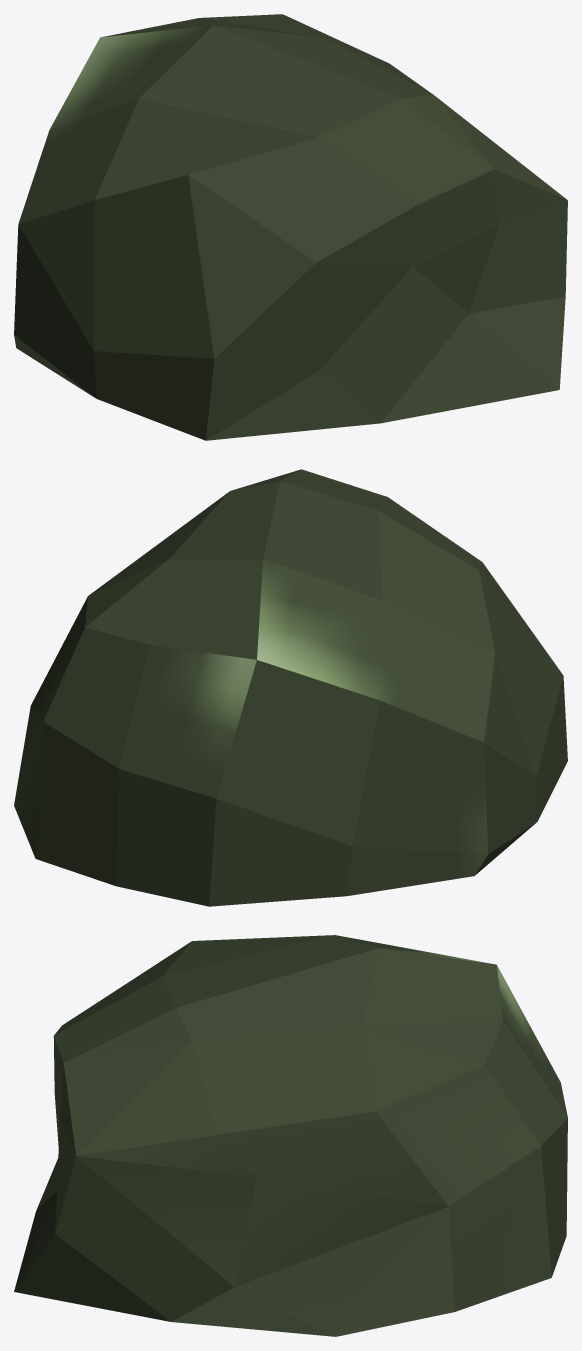
The model's file is EA_Swamp_Wall_01b.003.glb.
3 renders of one model, top to bottom at view 1: azimuth 30°, elevation 25°; view 2: azimuth 150°, elevation 25°; view 3: azimuth 270°, elevation 25°, orthographic. The views are drawn at different scales.
Parts seen in each view (by area): view 1: EA_Swamp_Wall_01b.003; view 2: EA_Swamp_Wall_01b.003; view 3: EA_Swamp_Wall_01b.003.
Boxes of the visible parts, x1,y1,x2,y2 form: EA_Swamp_Wall_01b.003: [14, 14, 567, 440]; EA_Swamp_Wall_01b.003: [14, 469, 567, 906]; EA_Swamp_Wall_01b.003: [14, 935, 567, 1336].
Size of the model in its own units: 0.8517 by 0.4672 by 0.8792.
Materials: 1 (1 with a texture image).
